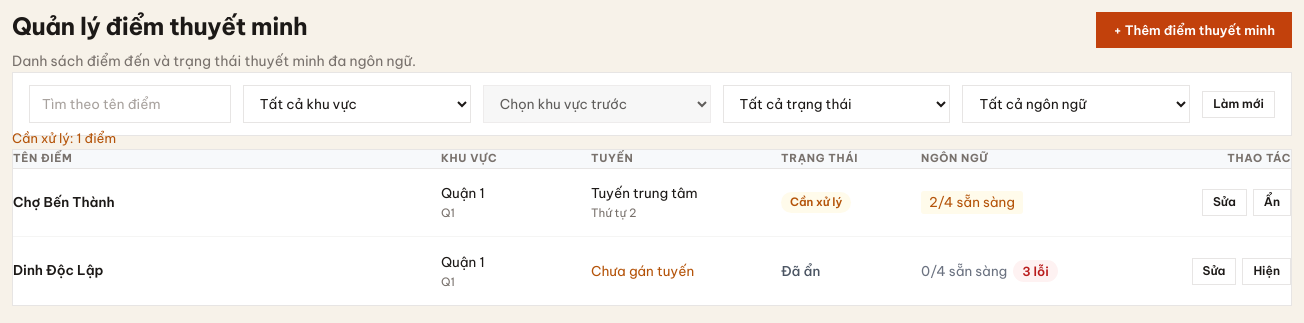
Test: PoiListPage › dòng tóm tắt Cần xử lý bấm để lọc nhanh theo trạng thái đó
What coordinates should you click on to do the following:
click the button "Cần xử lý: 1 điểm"
I would click on:
 (64, 139)
Its box is x1=12 y1=128 x2=116 y2=149.
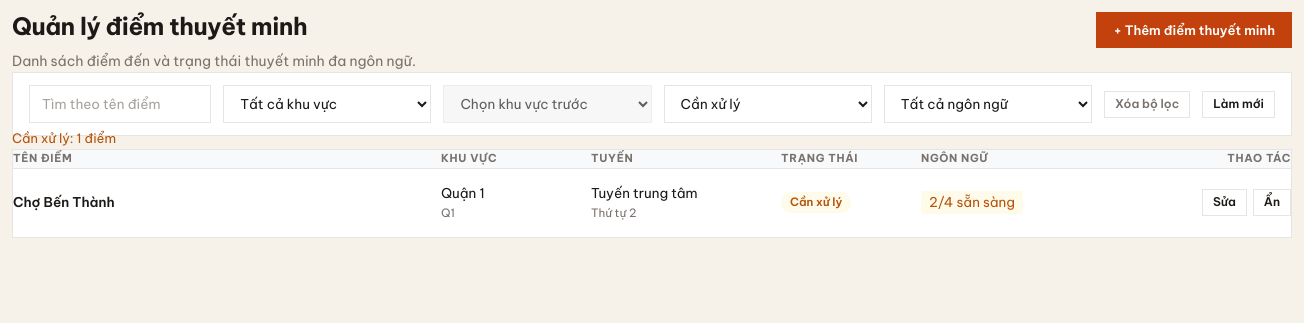
Expected: the link "Chợ Bến Thành" is shown, x1=13 y1=193 x2=114 y2=211
Expected: the dropdown named "Lọc theo trạng thái" shows "Cần xử lý", x1=664 y1=86 x2=872 y2=124
Expected: the link "Dinh Độc Lập" is gone
